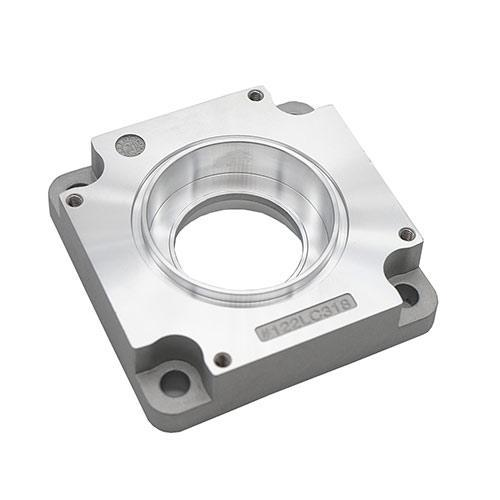hole: (158, 363, 193, 408), (394, 282, 422, 314), (210, 346, 232, 372), (64, 189, 89, 209), (246, 86, 268, 106), (398, 226, 418, 244)
